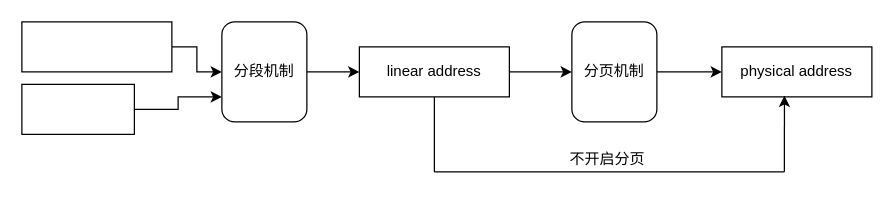
Image size: 894x204. Some labels were removed from this diagram. Each missing label, with the centre of its shape:
"logical address" goes at pixel 96 46.
"segment selector" goes at pixel 77 108.
